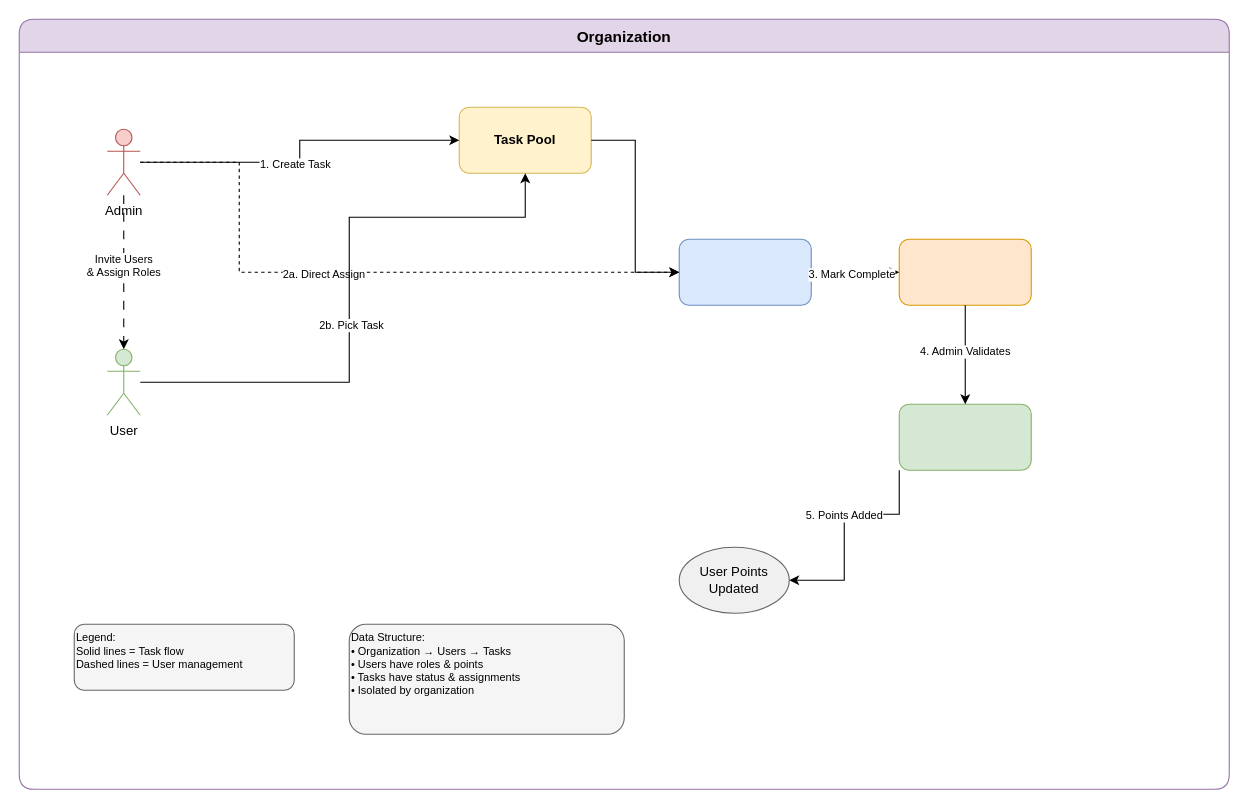
The diagram is 1249 pixels wide and 809 high, and some of its shapes have lost their labels. The centre of each missing label's shape, as x and y in pixels:
Task (COMPLETED): point 964,271
Task (FINALIZED): point 964,436
Task (UNCOMPLETED): point 744,271
